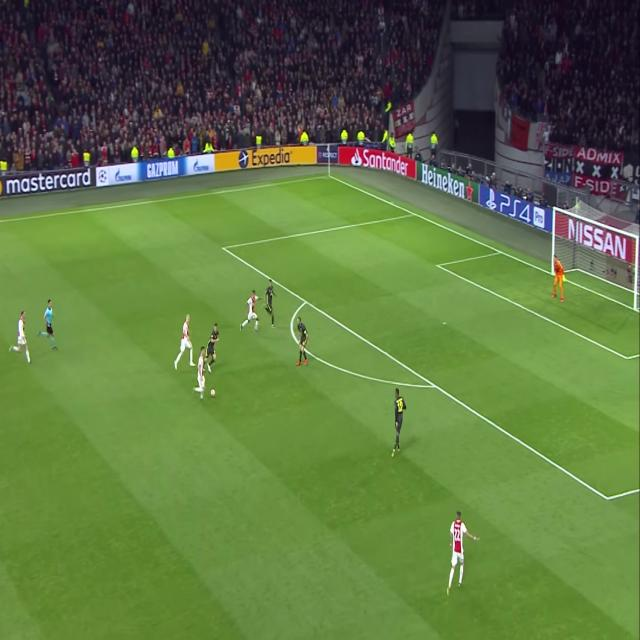Ball: (209, 384, 217, 398)
GoalKeeper: (552, 255, 567, 302)
TEAM 1: (446, 511, 479, 594), (173, 315, 194, 370), (194, 346, 215, 398), (15, 308, 32, 366), (242, 291, 260, 332)
TEAM 2: (202, 320, 219, 380), (393, 392, 408, 456), (292, 319, 309, 367), (264, 278, 276, 324)
